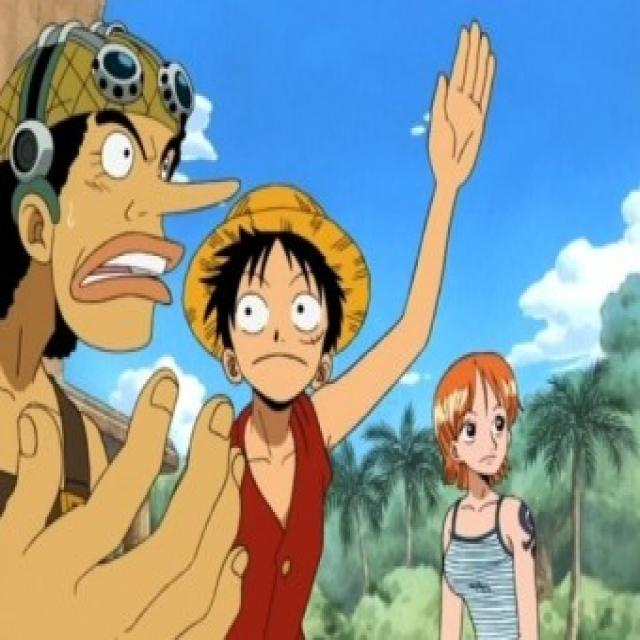Luffy: (170, 172, 386, 398)
Nami: (428, 341, 544, 486)
Usopp: (0, 32, 208, 360)
